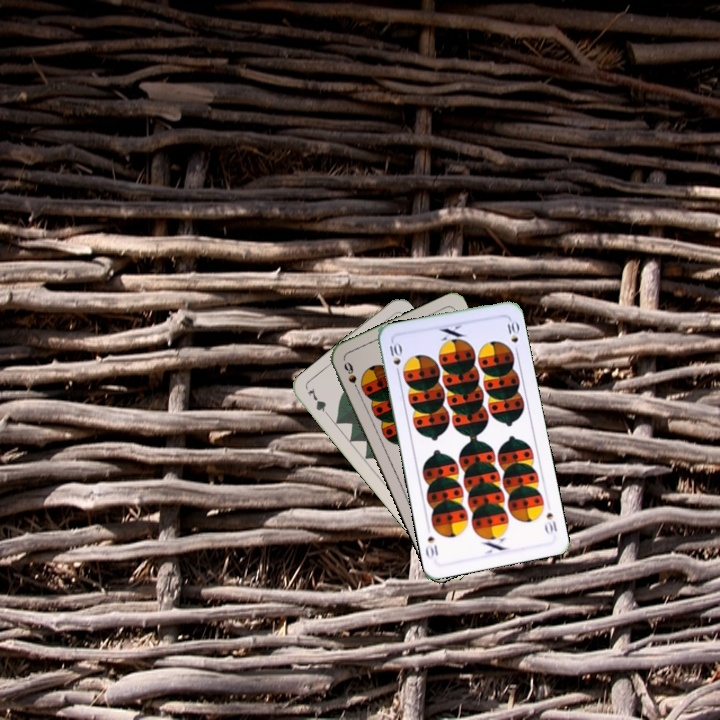G7: (304, 384, 333, 421)
S10: (386, 338, 404, 378), (542, 508, 560, 535)
S9: (340, 357, 362, 396)
